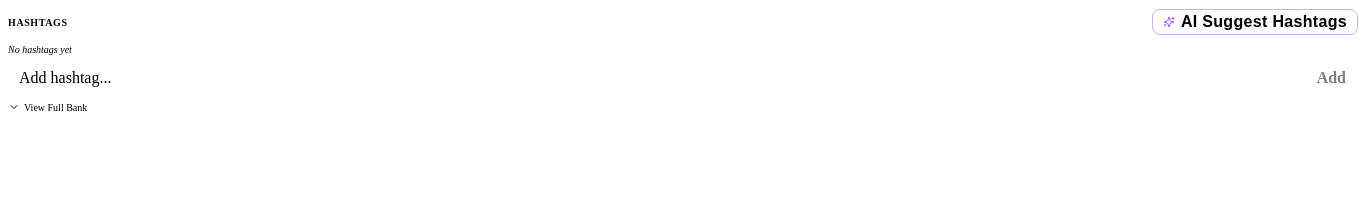
Scenario: PkgHashtagBankComponent › "View Full Bank" toggle expands the group list when clicked
Step 1. Click the button with class "bank-toggle" → (48, 107), box [8, 101, 87, 113]
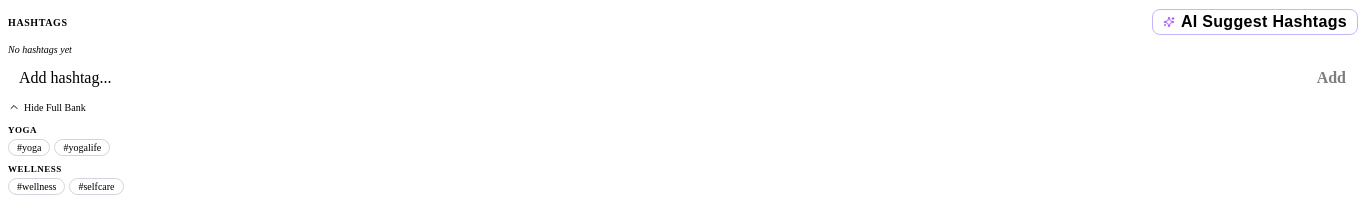
Check: the element with class "bank-groups" is shown, box [8, 125, 124, 195]
Check: the button with class "bank-toggle" reads "Hide Full Bank", box [8, 101, 86, 113]
Check: the button with class "bank-toggle" is expanded, box [8, 101, 86, 113]
